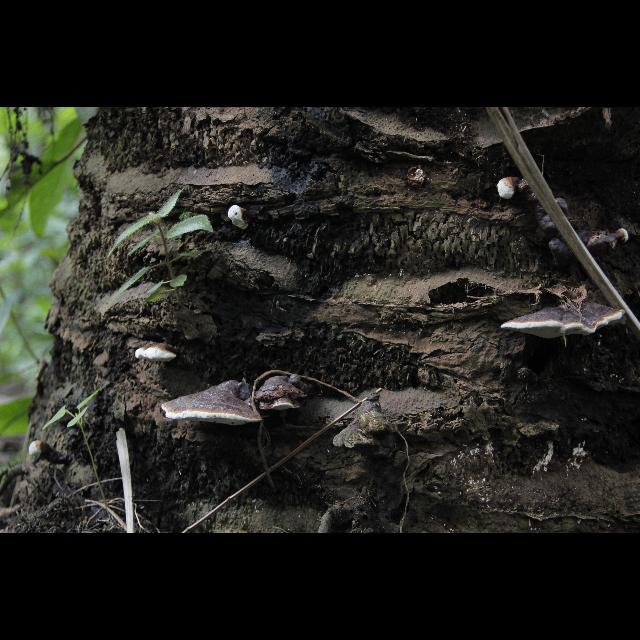ganoderma: (520, 176, 617, 270), (501, 300, 627, 341), (162, 381, 264, 427), (253, 376, 309, 413), (136, 344, 178, 364)
primordium: (229, 206, 251, 231), (498, 178, 519, 201), (29, 441, 47, 461), (618, 229, 630, 245)
